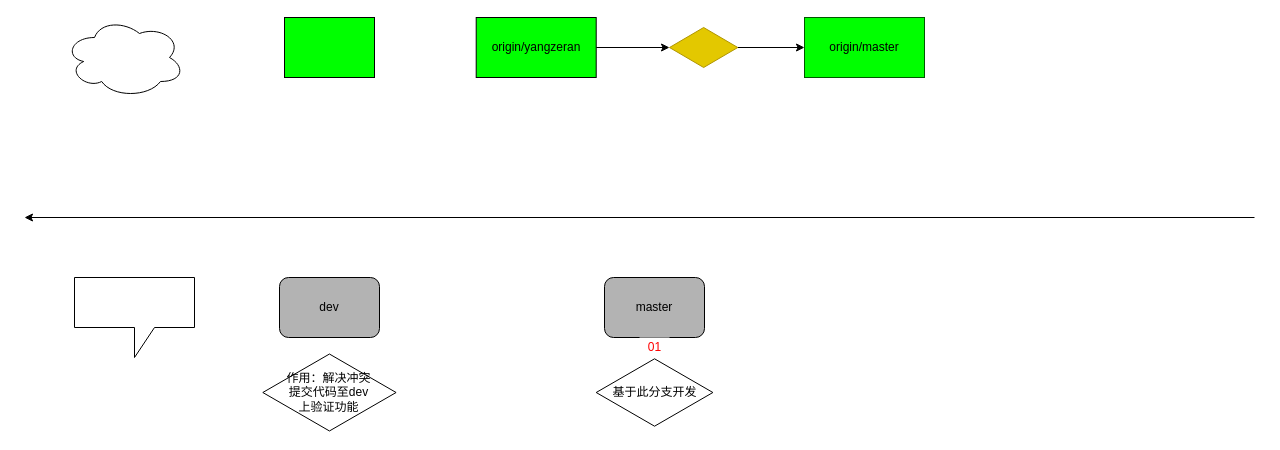
Image size: 1280x450. Some labels were removed from this diagram. The centre of each missing label's shape, as x and y in pixels:
"merger" goes at point (703, 47).
"origin/dev" goes at point (329, 47).
"本地分支" goes at point (134, 317).
"远端分支" goes at point (124, 57).
